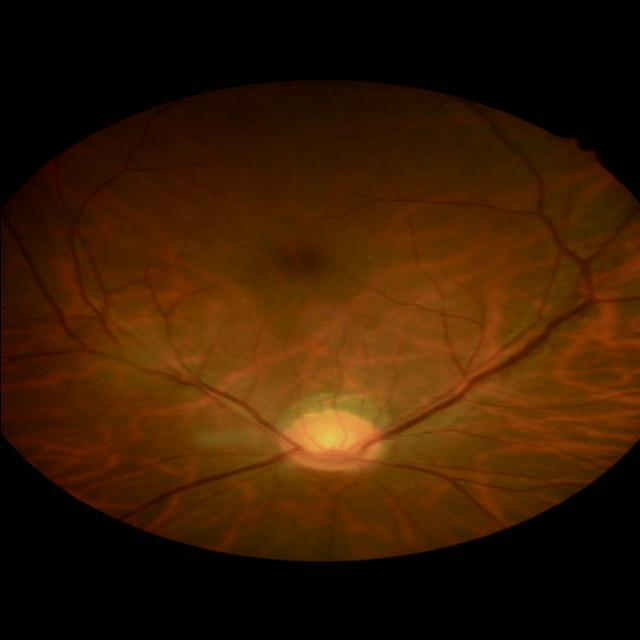cup: (295, 424, 363, 460)
disk: (278, 411, 380, 473)
